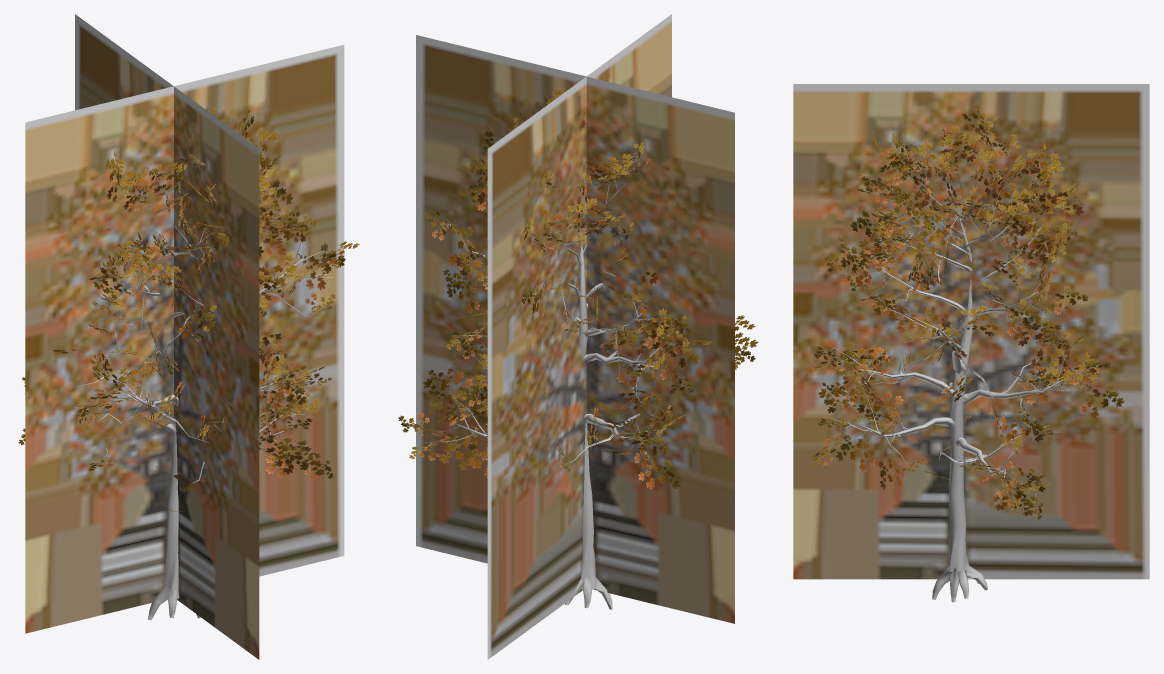
Rendered from Tree-Maple2C.fbx.
The picture shows the model from 3 angles, left to right: view 1: azimuth 30°, elevation 25°; view 2: azimuth 150°, elevation 25°; view 3: azimuth 270°, elevation 25°; orthographic projection. The views are drawn at different scales.
Visible parts, largest first — view 1: Billboard-MapleC, Tree-Maple2C_LOD0; view 2: Billboard-MapleC, Tree-Maple2C_LOD0; view 3: Billboard-MapleC, Tree-Maple2C_LOD0.
Part boxes in pixels (x1=…): Billboard-MapleC: x1=25, y1=14, x2=344, y2=659; Tree-Maple2C_LOD0: x1=18, y1=108, x2=359, y2=620; Billboard-MapleC: x1=416, y1=14, x2=734, y2=659; Tree-Maple2C_LOD0: x1=398, y1=88, x2=758, y2=609; Billboard-MapleC: x1=793, y1=84, x2=1149, y2=579; Tree-Maple2C_LOD0: x1=806, y1=103, x2=1124, y2=602.
Size of what is drawn, in the model's own units: 1804 by 2851 by 1804.
